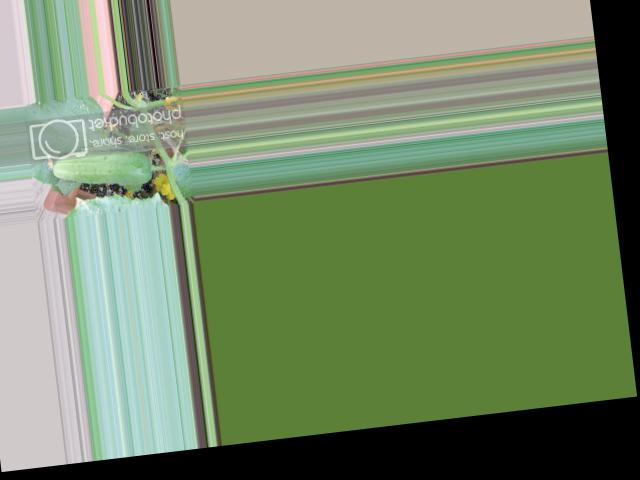cucumber: (49, 143, 152, 194)
